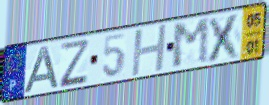5: (101, 33, 127, 80)
A: (21, 44, 62, 95)
H: (130, 22, 169, 79)
M: (171, 16, 211, 71)
X: (205, 11, 243, 64)
Z: (59, 38, 90, 90)
